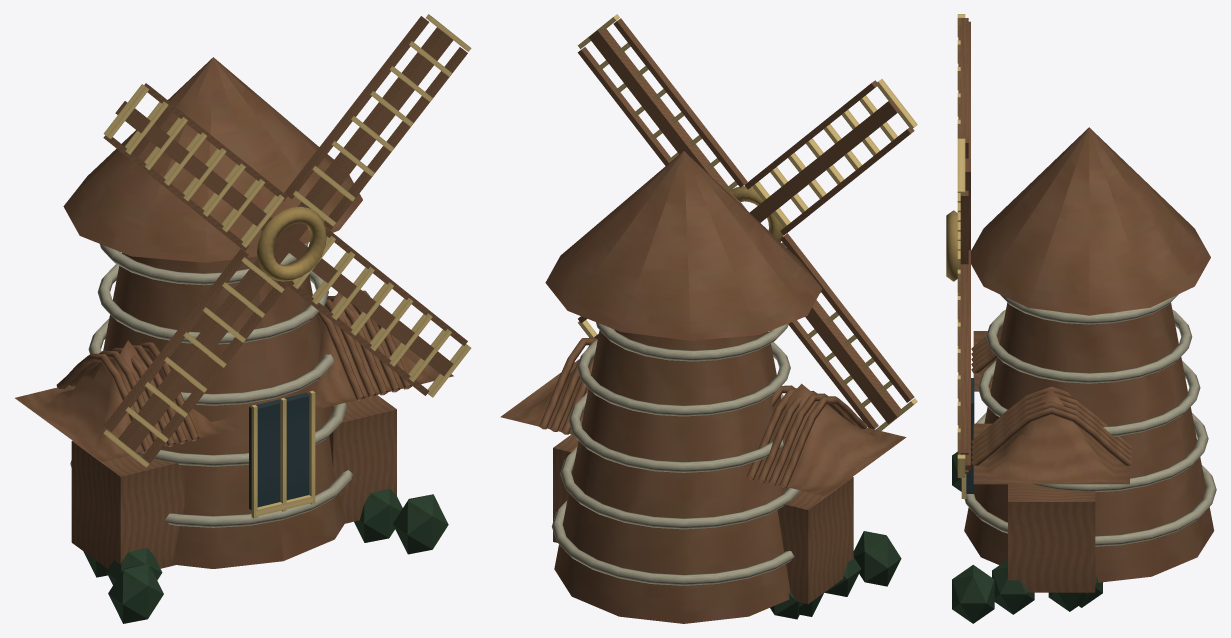
Rendered from windmill.glb.
The picture shows the model from 3 angles, left to right: view 1: azimuth 30°, elevation 25°; view 2: azimuth 150°, elevation 25°; view 3: azimuth 270°, elevation 25°; orthographic projection. The views are drawn at different scales.
Parts seen in each view (by area): view 1: static_ornament, moving_windmill_blades; view 2: static_ornament, moving_windmill_blades; view 3: static_ornament, moving_windmill_blades.
Part boxes in pixels (<box>): static_ornament: <box>15,57,453,623</box>; moving_windmill_blades: <box>103,14,471,467</box>; static_ornament: <box>500,151,906,623</box>; moving_windmill_blades: <box>577,14,917,430</box>; static_ornament: <box>952,127,1216,623</box>; moving_windmill_blades: <box>946,14,970,477</box>.
Size of the model in its own units: 1.2 by 1.7 by 0.8652.
Materials: 1 (1 with a texture image).
